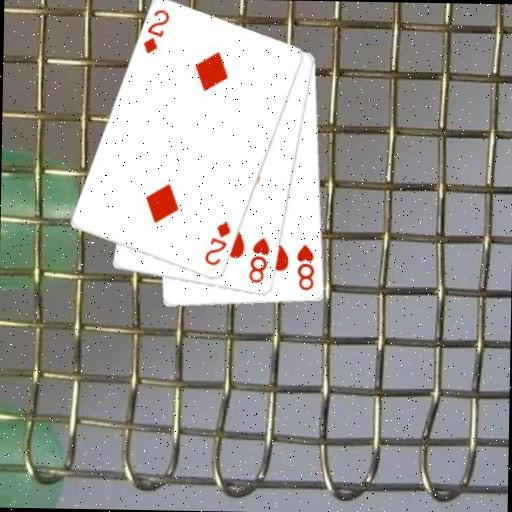2D: (201, 218, 232, 268), (141, 6, 172, 56)
8H: (246, 235, 272, 286), (294, 242, 318, 293)
